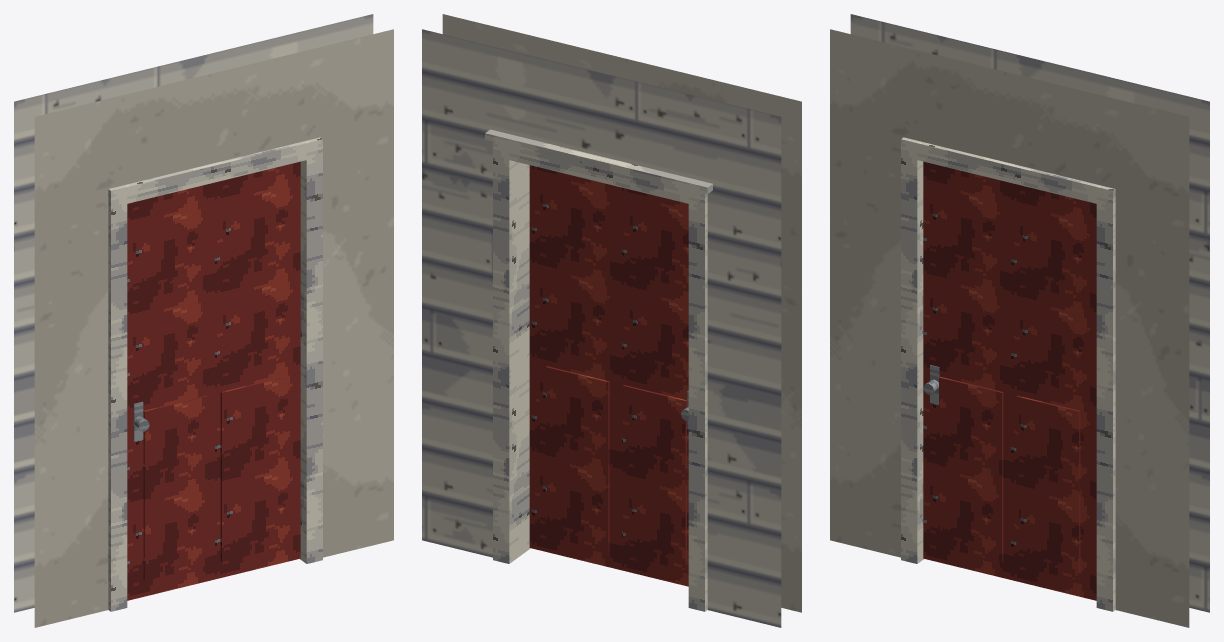
The model's file is RES_Ext_Wall_2m_Door_White.obj.
3 views of the same model, side by side, from view 1: azimuth 30°, elevation 25°; view 2: azimuth 150°, elevation 25°; view 3: azimuth 330°, elevation 25° (orthographic).
Parts seen in each view (by area): view 1: RES_Ext_Wall_2m_Door_White_Mesh_M_Int_DrywallLight, INT_Door_M_Town_PaintRed, RES_Ext_Wall_2m_Door_White_Mesh_M_Arch_TrimPainted, RES_Ext_Wall_2m_Door_White_Mesh_M_Arch_SidingWhite; view 2: RES_Ext_Wall_2m_Door_White_Mesh_M_Arch_SidingWhite, INT_Door_M_Town_PaintRed, RES_Ext_Wall_2m_Door_White_Mesh_M_Arch_TrimPainted, RES_Ext_Wall_2m_Door_White_Mesh_M_Int_DrywallLight; view 3: RES_Ext_Wall_2m_Door_White_Mesh_M_Int_DrywallLight, INT_Door_M_Town_PaintRed, RES_Ext_Wall_2m_Door_White_Mesh_M_Arch_TrimPainted, RES_Ext_Wall_2m_Door_White_Mesh_M_Arch_SidingWhite.
Part boxes in pixels (left/top/right/bottom): RES_Ext_Wall_2m_Door_White_Mesh_M_Int_DrywallLight: left=34, top=29, right=393, bottom=627; INT_Door_M_Town_PaintRed: left=127, top=161, right=300, bottom=600; RES_Ext_Wall_2m_Door_White_Mesh_M_Arch_TrimPainted: left=108, top=137, right=322, bottom=611; RES_Ext_Wall_2m_Door_White_Mesh_M_Arch_SidingWhite: left=14, top=14, right=373, bottom=612; RES_Ext_Wall_2m_Door_White_Mesh_M_Arch_SidingWhite: left=422, top=29, right=781, bottom=627; INT_Door_M_Town_PaintRed: left=529, top=165, right=688, bottom=586; RES_Ext_Wall_2m_Door_White_Mesh_M_Arch_TrimPainted: left=485, top=129, right=712, bottom=611; RES_Ext_Wall_2m_Door_White_Mesh_M_Int_DrywallLight: left=442, top=14, right=801, bottom=612; RES_Ext_Wall_2m_Door_White_Mesh_M_Int_DrywallLight: left=830, top=29, right=1189, bottom=627; INT_Door_M_Town_PaintRed: left=923, top=161, right=1096, bottom=600; RES_Ext_Wall_2m_Door_White_Mesh_M_Arch_TrimPainted: left=901, top=137, right=1115, bottom=611; RES_Ext_Wall_2m_Door_White_Mesh_M_Arch_SidingWhite: left=850, top=14, right=1209, bottom=612.
Bounding box in the file's own units: 2 × 2.72 × 0.3025.
Materials: 6 (6 with a texture image).
